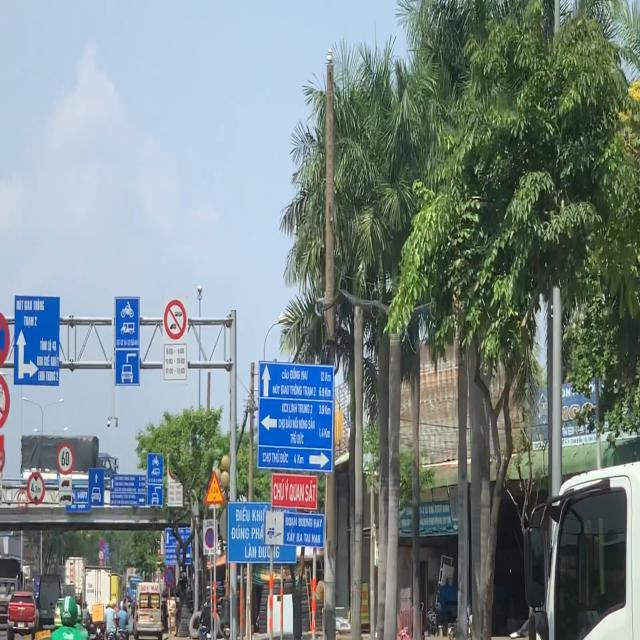Cam con lai: (164, 299, 188, 342)
Cam dung va do: (164, 567, 175, 588)
Chieu cao toi da: (27, 472, 45, 504)
Nguy hiem: (204, 471, 225, 505)
Toc do toi da: (55, 443, 75, 474)
